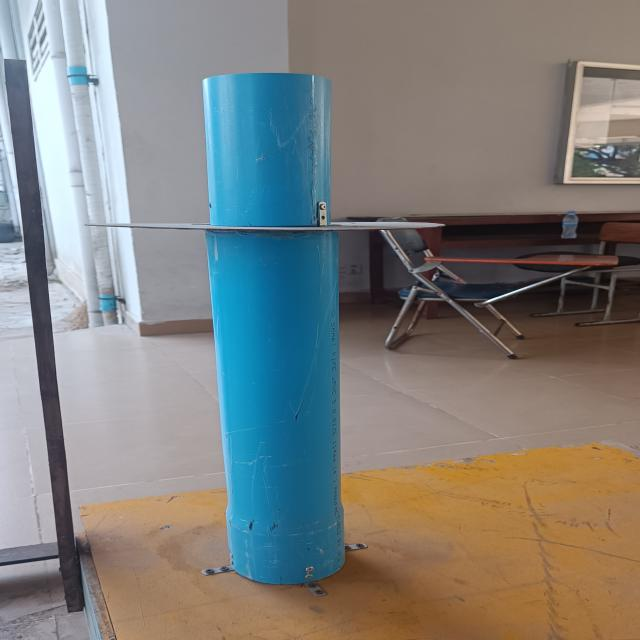pole: (80, 68, 444, 387)
